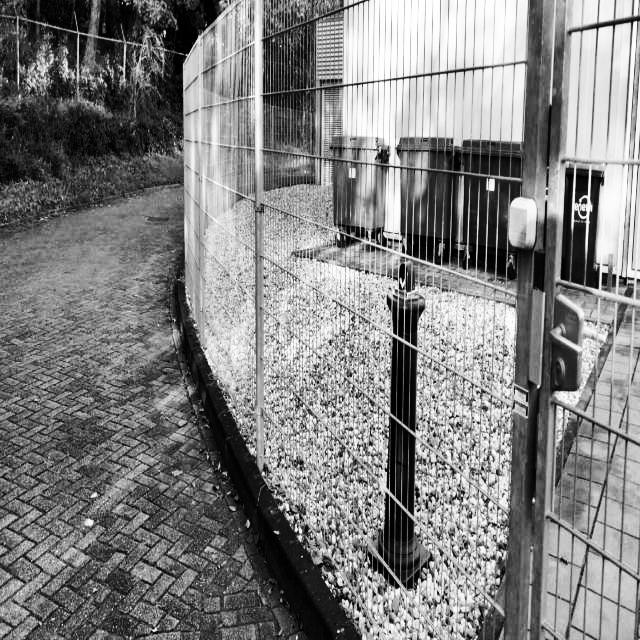fences: (183, 0, 640, 603), (0, 30, 160, 99)
